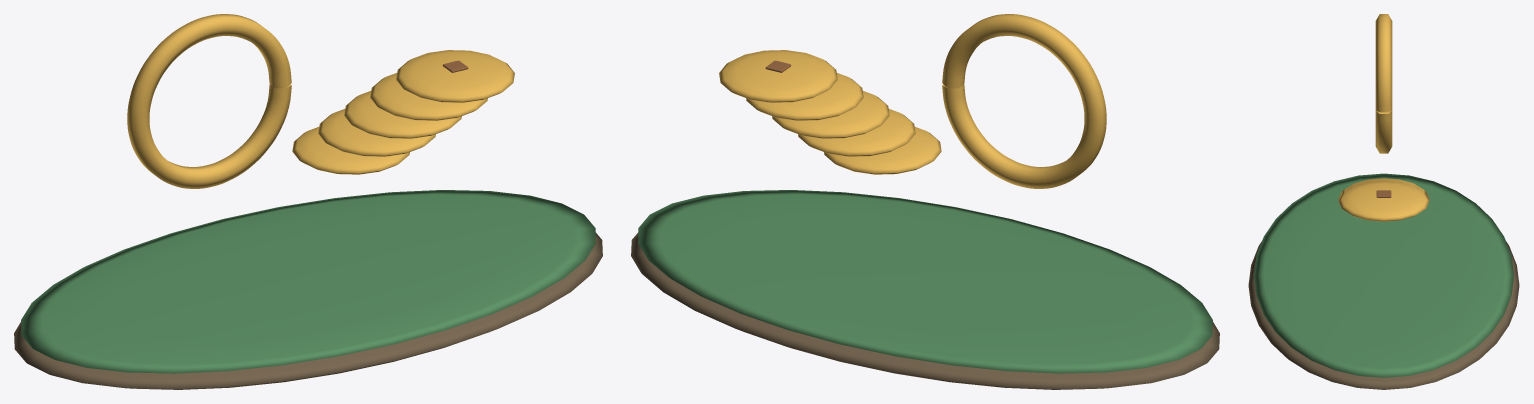
File: spare-change.glb
3 views of the same model, side by side, from view 1: azimuth 30°, elevation 25°; view 2: azimuth 150°, elevation 25°; view 3: azimuth 270°, elevation 25° (orthographic). The views are drawn at different scales.
Visible parts, largest first — view 1: spare-change_surface_01, spare-change_surface_02, spare-change_surface_00; view 2: spare-change_surface_01, spare-change_surface_02, spare-change_surface_00; view 3: spare-change_surface_01, spare-change_surface_02, spare-change_surface_00.
Boxes of the visible parts, <box> form: spare-change_surface_01: <box>21,190,595,373</box>; spare-change_surface_02: <box>127,14,514,188</box>; spare-change_surface_00: <box>14,232,602,389</box>; spare-change_surface_01: <box>638,190,1212,373</box>; spare-change_surface_02: <box>719,14,1106,188</box>; spare-change_surface_00: <box>631,232,1219,389</box>; spare-change_surface_01: <box>1254,173,1513,377</box>; spare-change_surface_02: <box>1338,14,1429,221</box>; spare-change_surface_00: <box>1248,241,1519,389</box>.
Bounding box in the file's own units: 4.56 × 2.45 × 2.5.
